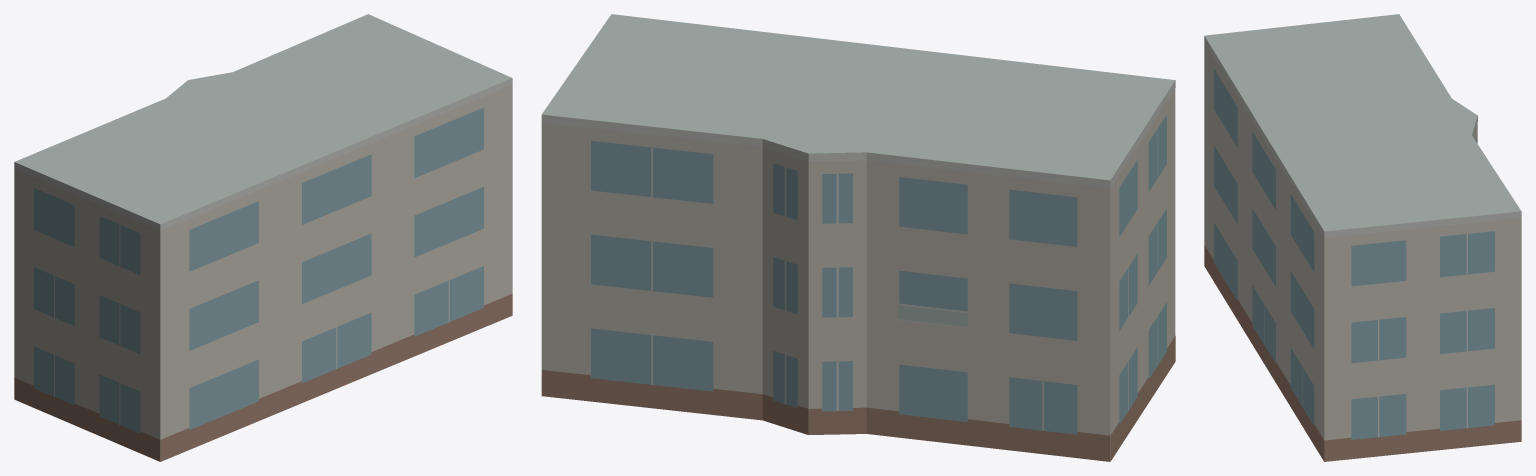
Rendered from survey-upis-32612915.glb.
The picture shows the model from 3 angles, left to right: view 1: azimuth 30°, elevation 25°; view 2: azimuth 150°, elevation 25°; view 3: azimuth 270°, elevation 25°; orthographic projection. The views are drawn at different scales.
Parts seen in each view (by area): view 1: survey-upis-32612915.tmp; view 2: survey-upis-32612915.tmp; view 3: survey-upis-32612915.tmp.
Part boxes in pixels (x1,y1,x2,y2): survey-upis-32612915.tmp: (14, 14, 512, 461); survey-upis-32612915.tmp: (541, 14, 1175, 461); survey-upis-32612915.tmp: (1204, 14, 1521, 461).
Bounding box in the file's own units: 17.63 × 8.7 × 10.87.
